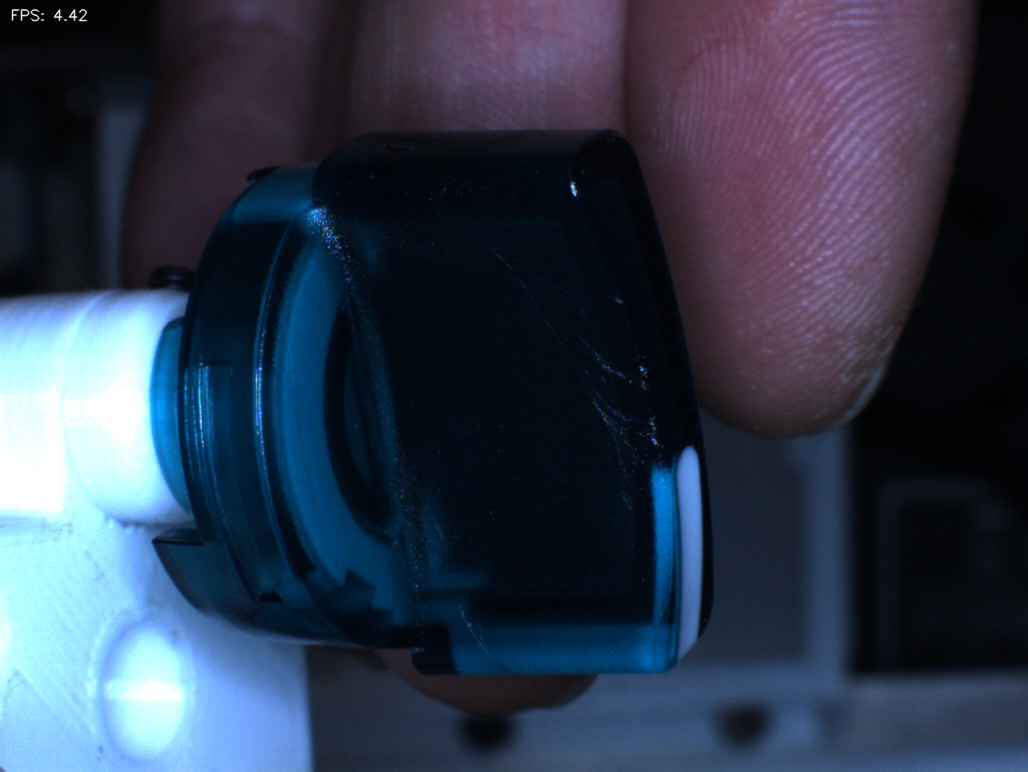Givrage: (510, 266, 667, 474)
